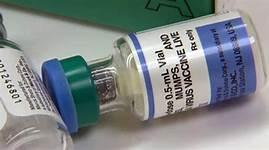Syringe: (40, 8, 269, 136)
